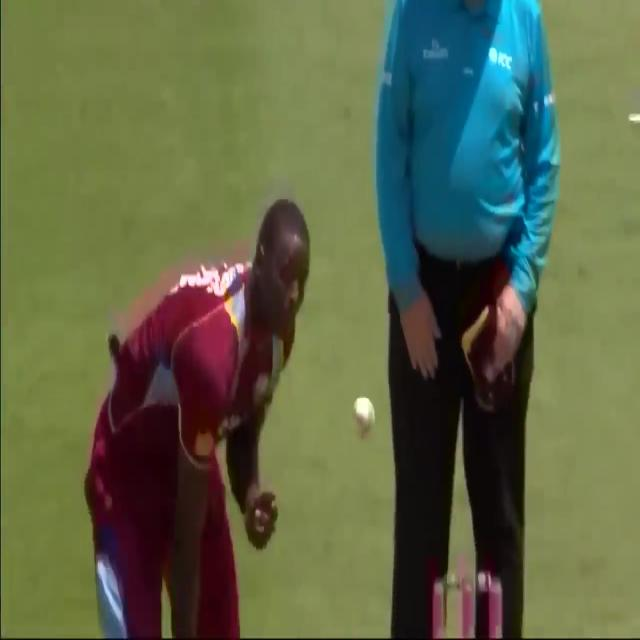Batsman: (349, 389, 378, 443)
Fielder: (85, 155, 319, 638)
Umpire: (376, 0, 557, 640)
